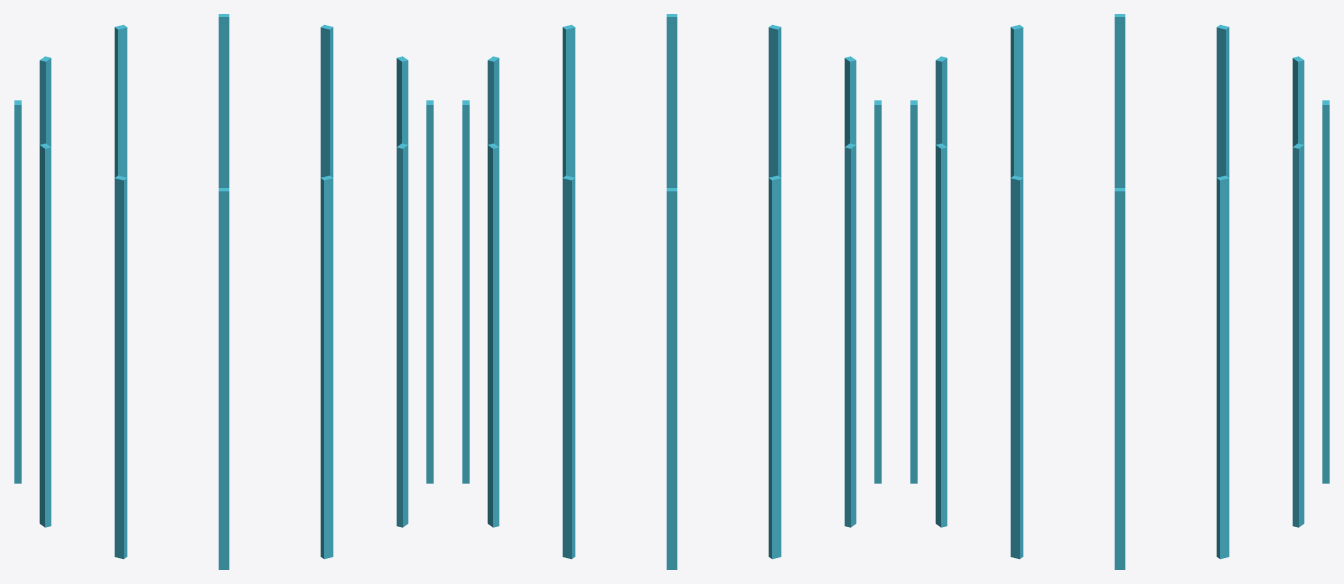
File: bars.fbx
The picture shows the model from 3 angles, left to right: view 1: azimuth 30°, elevation 25°; view 2: azimuth 150°, elevation 25°; view 3: azimuth 270°, elevation 25°; orthographic projection.
Parts seen in each view (by area): view 1: stick; view 2: stick; view 3: stick.
Boxes of the visible parts, <box> form: stick: <box>14,14,433,569</box>; stick: <box>462,14,881,569</box>; stick: <box>910,14,1329,569</box>.
Bounding box in the file's own units: 201 × 200 × 201.
